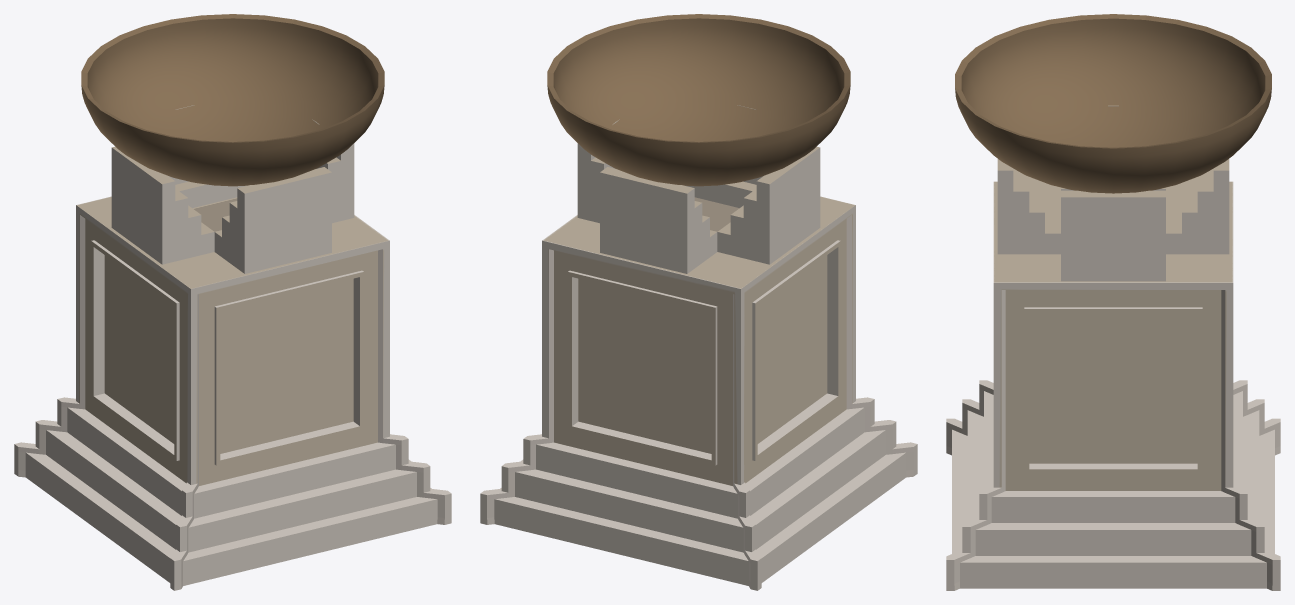
The model's file is FirePit.fbx.
The picture shows the model from 3 angles, left to right: view 1: azimuth 30°, elevation 25°; view 2: azimuth 150°, elevation 25°; view 3: azimuth 270°, elevation 25°; orthographic projection. The views are drawn at different scales.
Parts seen in each view (by area): view 1: NEW_FirePit_low; view 2: NEW_FirePit_low; view 3: NEW_FirePit_low.
Part boxes in pixels (left/top/right/bottom): NEW_FirePit_low: left=14, top=14, right=451, bottom=590; NEW_FirePit_low: left=480, top=14, right=917, bottom=590; NEW_FirePit_low: left=946, top=14, right=1280, bottom=590.
Size of the model in its own units: 190 by 190 by 275.
